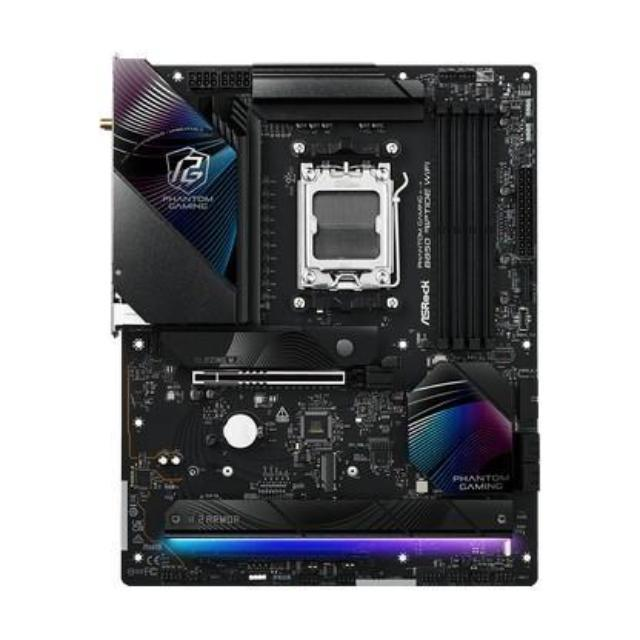Mainboard: (106, 54, 546, 592)
